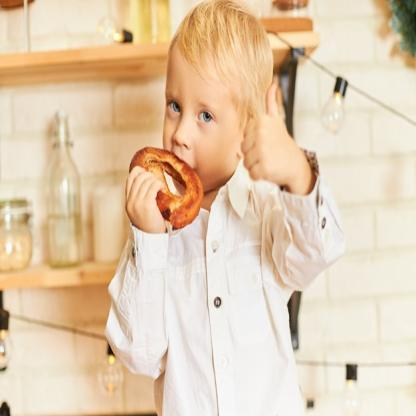thumb_up: (239, 81, 292, 186)
